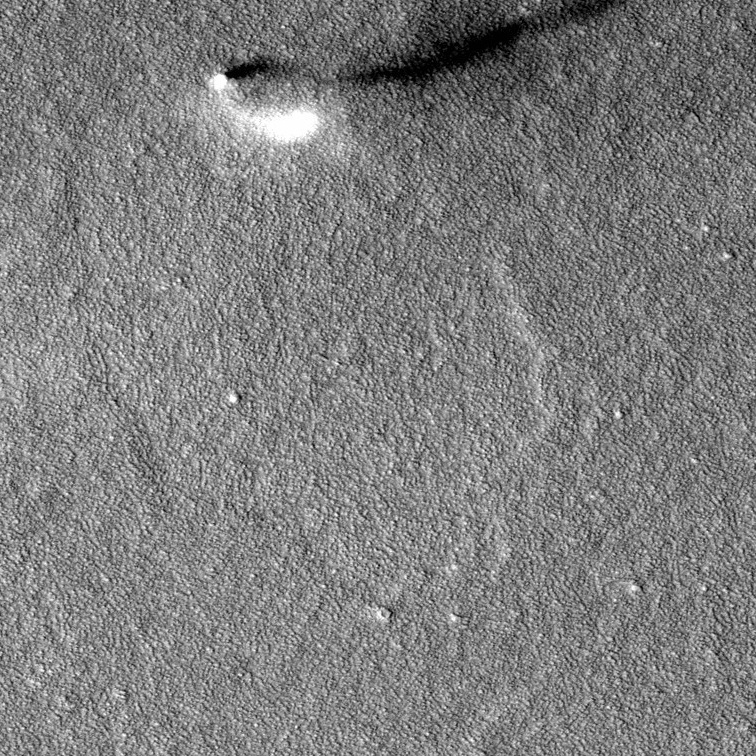dust_devil: (199, 0, 671, 153)
